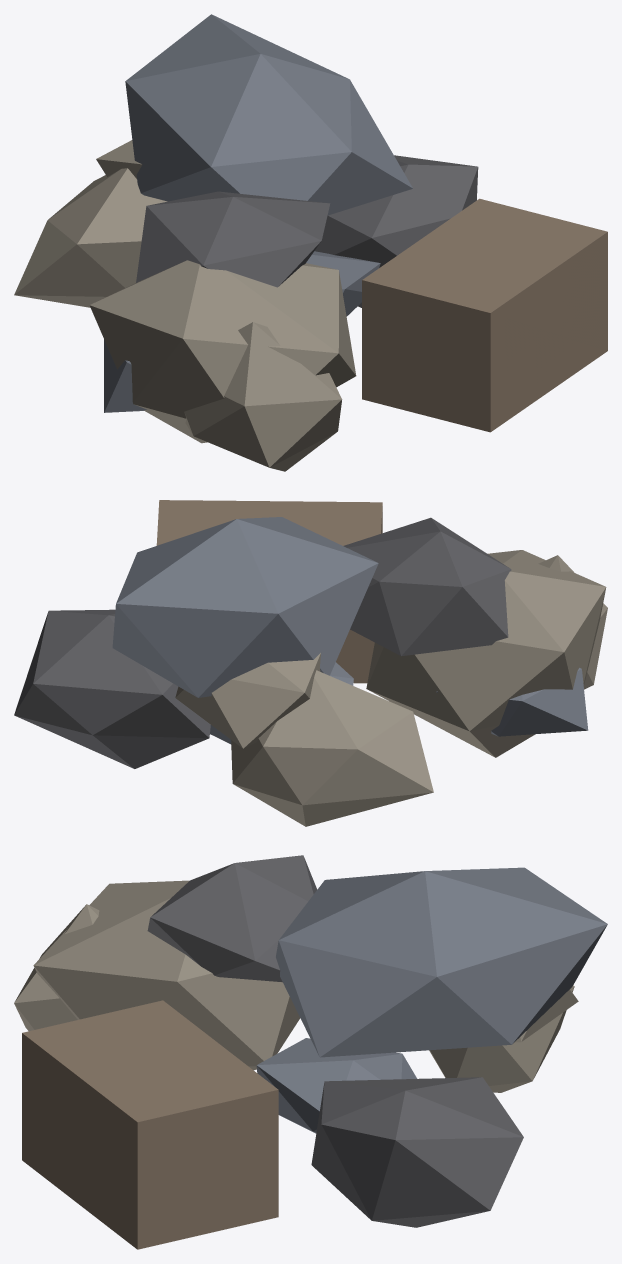
The model's file is obs_trash_b.glb.
The picture shows the model from 3 angles, top to bottom: view 1: azimuth 30°, elevation 25°; view 2: azimuth 150°, elevation 25°; view 3: azimuth 270°, elevation 25°; orthographic projection. The views are drawn at different scales.
Visible parts, largest first — view 1: obs_trash_b; view 2: obs_trash_b; view 3: obs_trash_b.
Part boxes in pixels (bbox=[...]): obs_trash_b: bbox=[14, 14, 607, 471]; obs_trash_b: bbox=[14, 500, 607, 826]; obs_trash_b: bbox=[14, 855, 607, 1249].
Size of the model in its own units: 1.44 by 0.8266 by 1.48.
